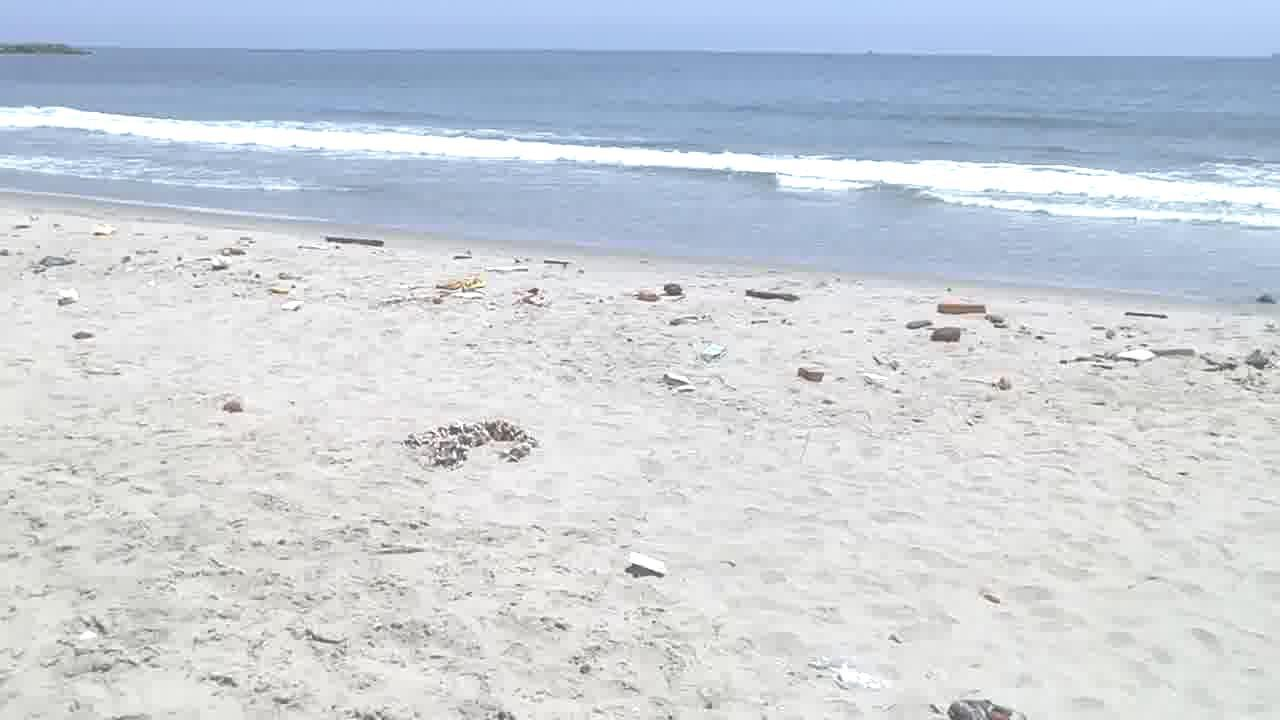obj: (399, 415, 539, 472), (173, 231, 258, 292), (798, 654, 894, 699), (928, 694, 1028, 720), (428, 274, 491, 304), (624, 546, 669, 580), (30, 254, 76, 276), (323, 234, 392, 248), (660, 371, 697, 395), (1120, 306, 1168, 322), (701, 340, 729, 366), (936, 302, 988, 316), (1152, 346, 1198, 360), (796, 365, 826, 385), (93, 218, 119, 241), (925, 328, 965, 342), (862, 372, 894, 387), (220, 394, 242, 414), (906, 319, 934, 330)
sand/background: (0, 0, 1279, 310)
